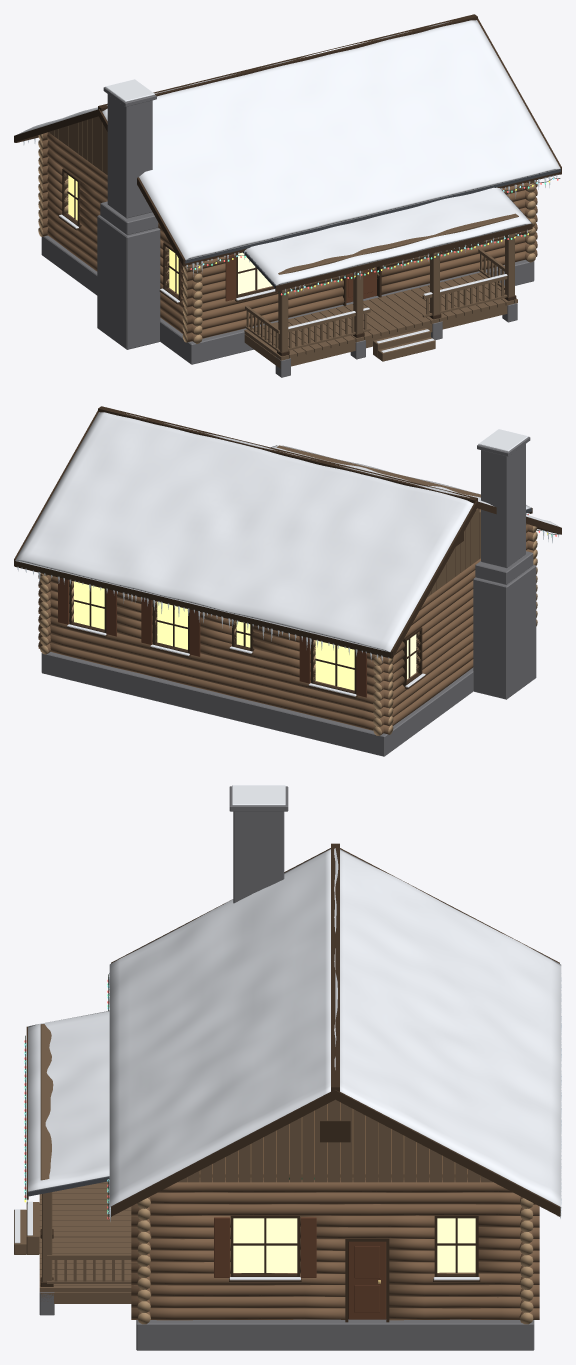
3 renders of one model, top to bottom at view 1: azimuth 30°, elevation 25°; view 2: azimuth 150°, elevation 25°; view 3: azimuth 270°, elevation 25°, orthographic. The views are drawn at different scales.
Visible parts, largest first — view 1: Zapada_Acoperis_Fata, Veranda_Zapada_Acoperis, Perete_Fata, Horn_Baza, Perete_Stanga, Veranda_Podea_Scanduri, Horn_Sus, Fundatie_Piatra, Veranda_Balustrada, Acoperis_Coama, Fronton_Stanga, Veranda_Grinda_Suport (+16 smaller); view 2: Zapada_Acoperis_Spate, Perete_Spate, Fundatie_Piatra, Perete_Stanga, Horn_Baza, Horn_Sus, Acoperis_Streasina_Spate, Acoperis_Coama, Fereastra_Spate_0_Geam, Fronton_Stanga, Acoperis_Bordura_St, Fereastra_Spate_2_Geam (+13 smaller); view 3: Zapada_Acoperis_Spate, Zapada_Acoperis_Fata, Perete_Dreapta, Fronton_Dreapta, Fundatie_Piatra, Veranda_Zapada_Acoperis, Veranda_Podea_Scanduri, Acoperis_Bordura_Dr, Horn_Sus, Fereastra_Dreapta_0_Geam, Acoperis_Coama, Fereastra_Dreapta_1_Geam (+13 smaller).
Part boxes in pixels (left/top/right/bottom): Zapada_Acoperis_Fata: left=102, top=20, right=560, bottom=260; Veranda_Zapada_Acoperis: left=245, top=187, right=531, bottom=285; Perete_Fata: left=182, top=180, right=537, bottom=342; Horn_Baza: left=97, top=215, right=160, bottom=349; Perete_Stanga: left=47, top=132, right=202, bottom=343; Veranda_Podea_Scanduri: left=244, top=272, right=517, bottom=360; Horn_Sus: left=107, top=94, right=152, bottom=218; Fundatie_Piatra: left=41, top=235, right=534, bottom=364; Veranda_Balustrada: left=245, top=249, right=507, bottom=352; Acoperis_Coama: left=98, top=14, right=477, bottom=111; Fronton_Stanga: left=48, top=116, right=107, bottom=174; Veranda_Grinda_Suport: left=244, top=305, right=507, bottom=368; Zapada_Acoperis_Spate: left=15, top=412, right=473, bottom=652; Perete_Spate: left=38, top=573, right=393, bottom=734; Fundatie_Piatra: left=41, top=652, right=473, bottom=756; Perete_Stanga: left=373, top=524, right=528, bottom=735; Horn_Baza: left=473, top=564, right=536, bottom=699; Horn_Sus: left=481, top=444, right=525, bottom=568; Acoperis_Streasina_Spate: left=14, top=561, right=391, bottom=658; Acoperis_Coama: left=98, top=406, right=477, bottom=503; Fereastra_Spate_0_Geam: left=315, top=640, right=354, bottom=690; Fronton_Stanga: left=427, top=508, right=527, bottom=597; Acoperis_Bordura_St: left=390, top=501, right=561, bottom=658; Fereastra_Spate_2_Geam: left=74, top=581, right=104, bottom=629; Zapada_Acoperis_Spate: left=335, top=848, right=561, bottom=1207; Zapada_Acoperis_Fata: left=109, top=848, right=335, bottom=1206; Perete_Dreapta: left=131, top=1179, right=539, bottom=1320; Fronton_Dreapta: left=178, top=1099, right=492, bottom=1182; Fundatie_Piatra: left=136, top=1319, right=534, bottom=1350; Veranda_Zapada_Acoperis: left=28, top=1011, right=109, bottom=1191; Veranda_Podea_Scanduri: left=39, top=1181, right=131, bottom=1292; Acoperis_Bordura_Dr: left=111, top=1090, right=559, bottom=1216; Horn_Sus: left=233, top=811, right=284, bottom=903; Fereastra_Dreapta_0_Geam: left=233, top=1218, right=297, bottom=1272; Acoperis_Coama: left=331, top=843, right=339, bottom=1091; Fereastra_Dreapta_1_Geam: left=437, top=1218, right=475, bottom=1272.
Size of the model in its own units: 47.32 by 28.1 by 42.96.
